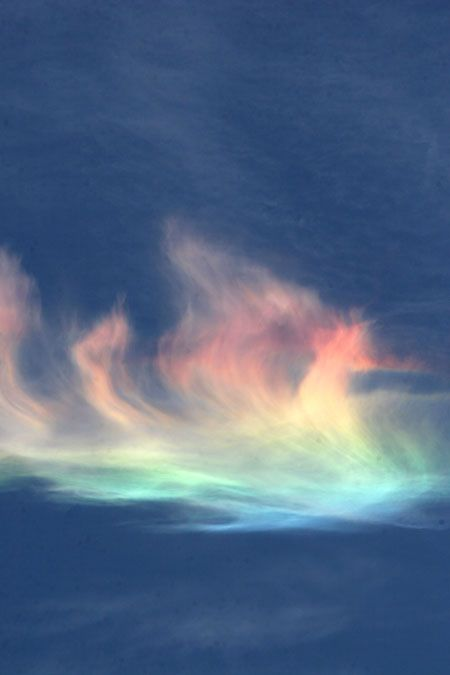Cirrus: (7, 204, 446, 562)
